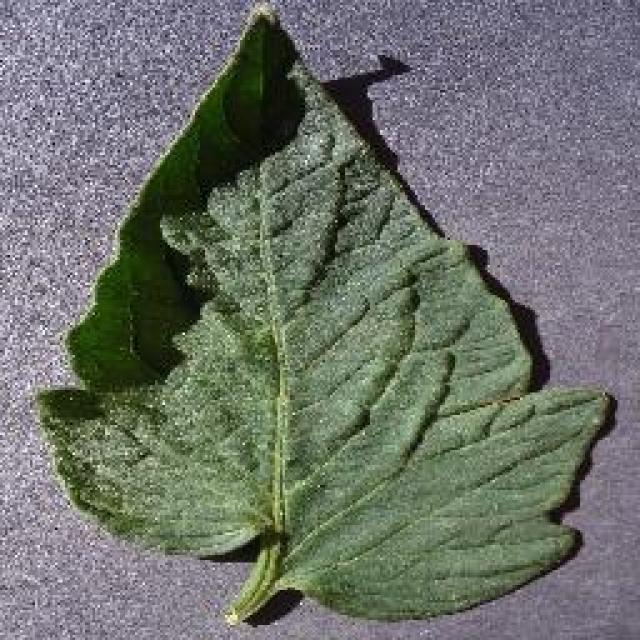Tomato healthy leaf: (39, 14, 604, 621)
